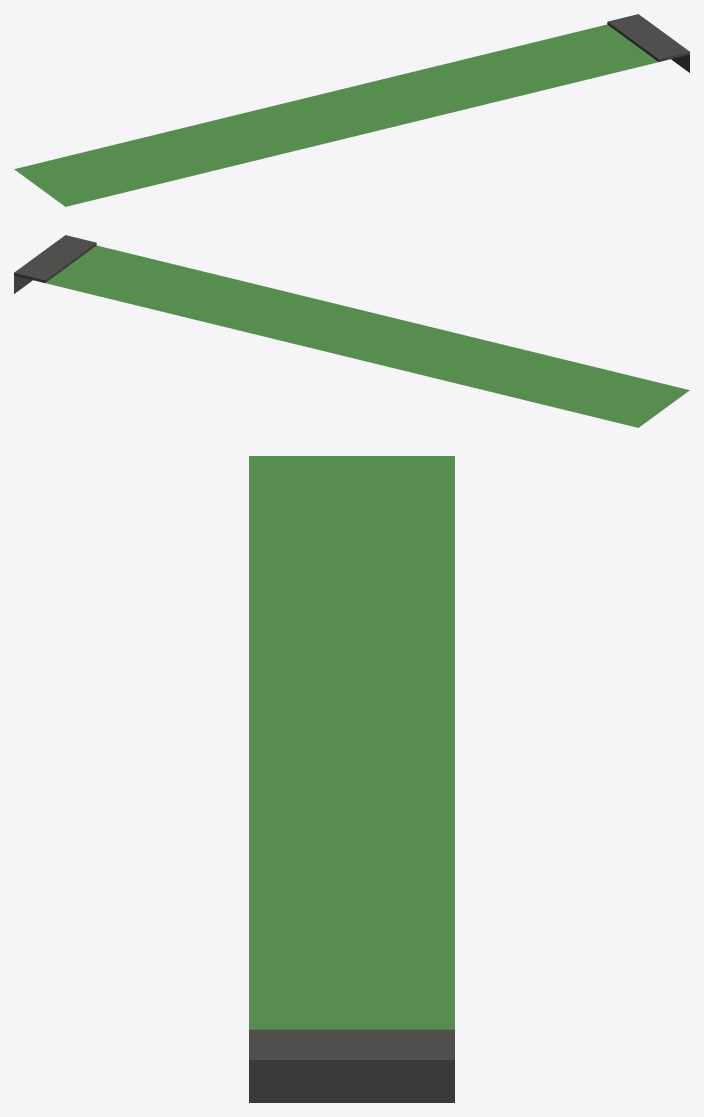
Rendered from M_Grass350x50_4.fbx.
3 renders of one model, top to bottom at view 1: azimuth 30°, elevation 25°; view 2: azimuth 150°, elevation 25°; view 3: azimuth 270°, elevation 25°, orthographic. The views are drawn at different scales.
Visible parts, largest first — view 1: M_Grass350x50_4; view 2: M_Grass350x50_4; view 3: M_Grass350x50_4.
Boxes of the visible parts, box(x1,y1,x2,y2) form: M_Grass350x50_4: box(14, 14, 689, 206); M_Grass350x50_4: box(14, 235, 689, 427); M_Grass350x50_4: box(249, 456, 454, 1102).
Size of the model in its own units: 350 by 50 by 11.5.
